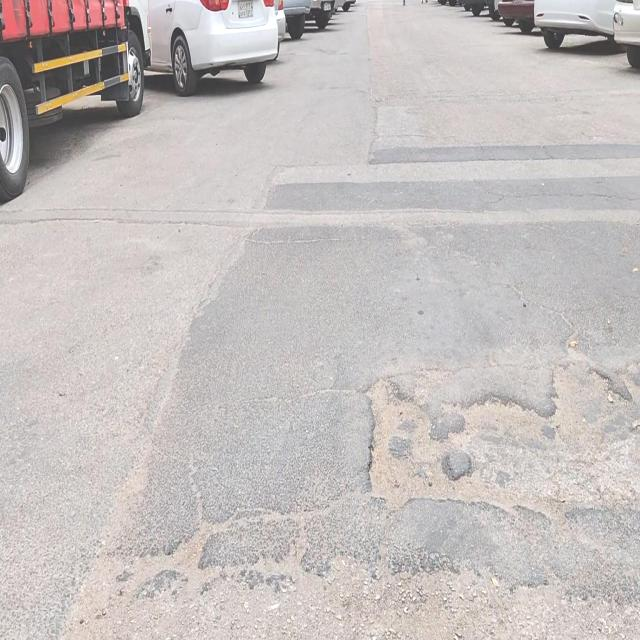Potholes: (358, 368, 473, 517), (464, 391, 567, 515)
